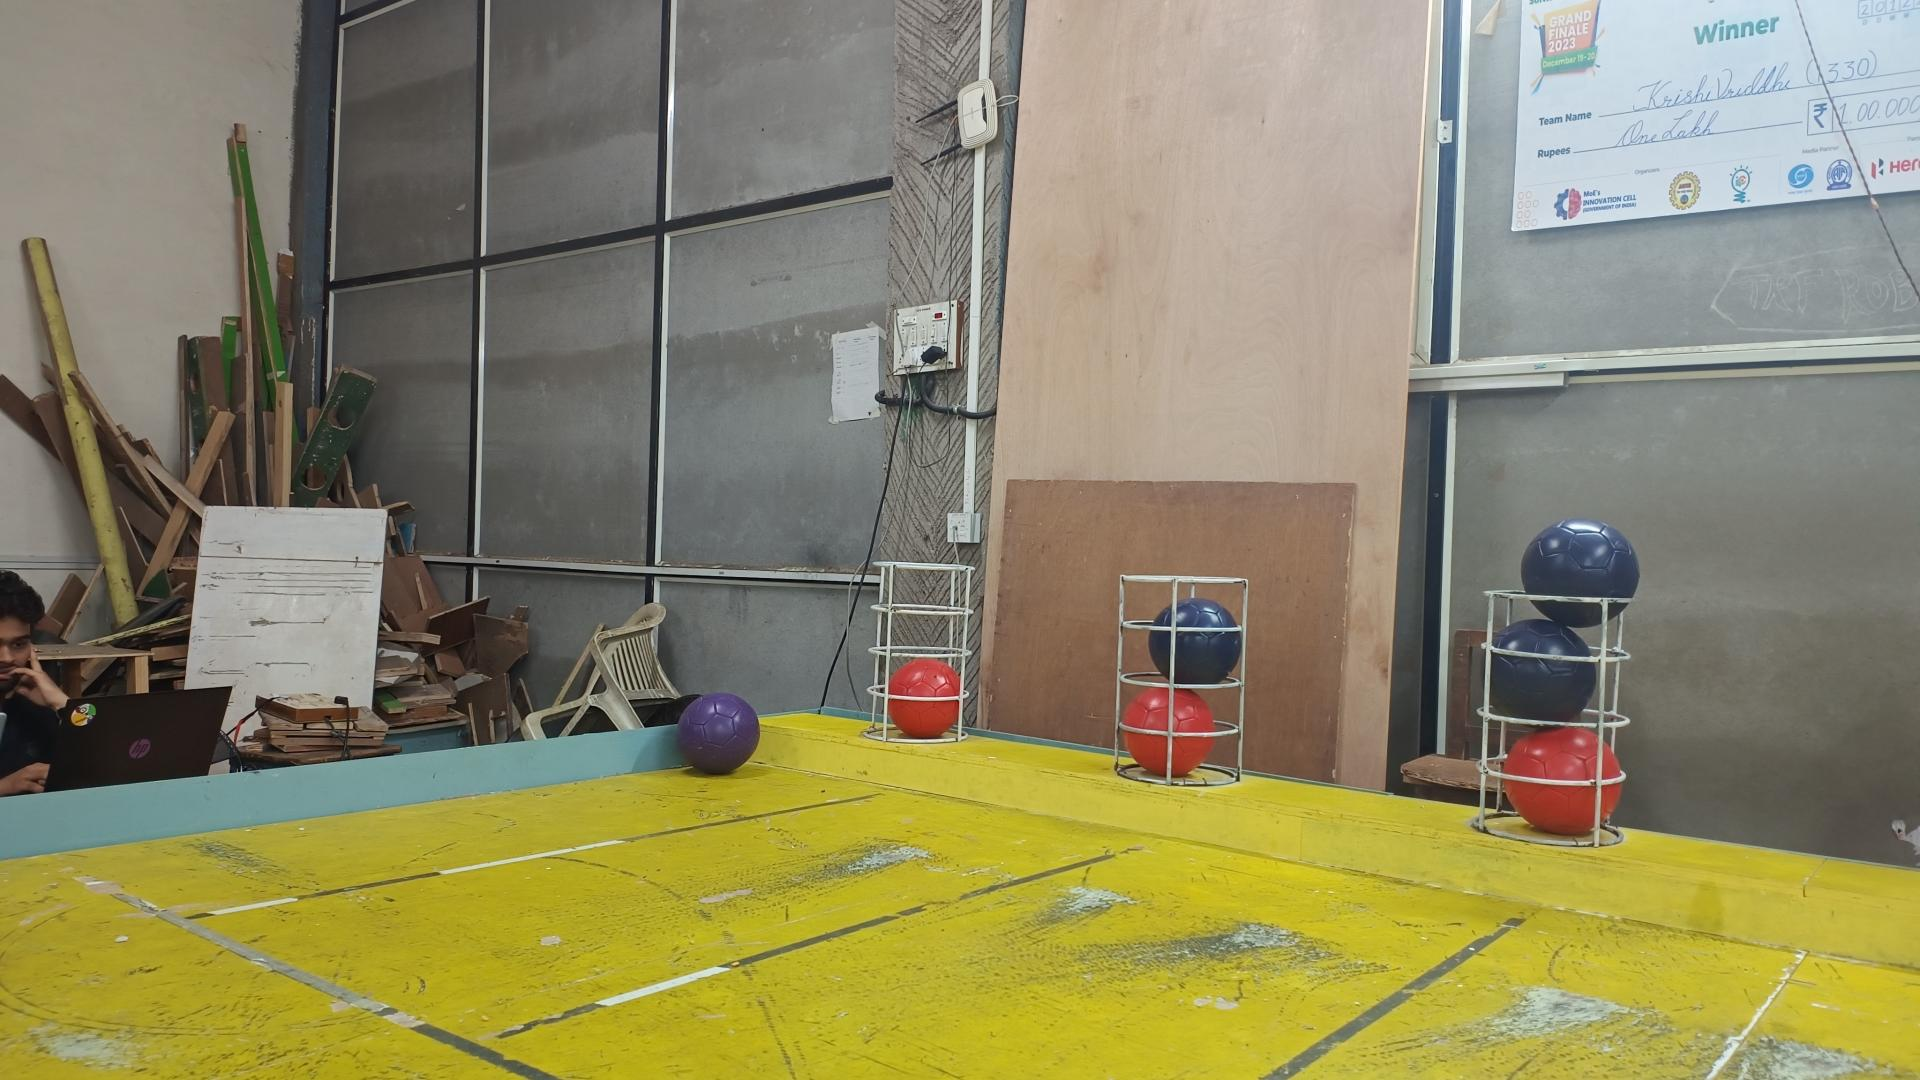dhoka: (1523, 517, 1639, 630), (1477, 618, 1597, 724), (1147, 596, 1241, 683)
laale: (1503, 728, 1623, 836), (1121, 686, 1215, 777), (889, 657, 960, 738)
